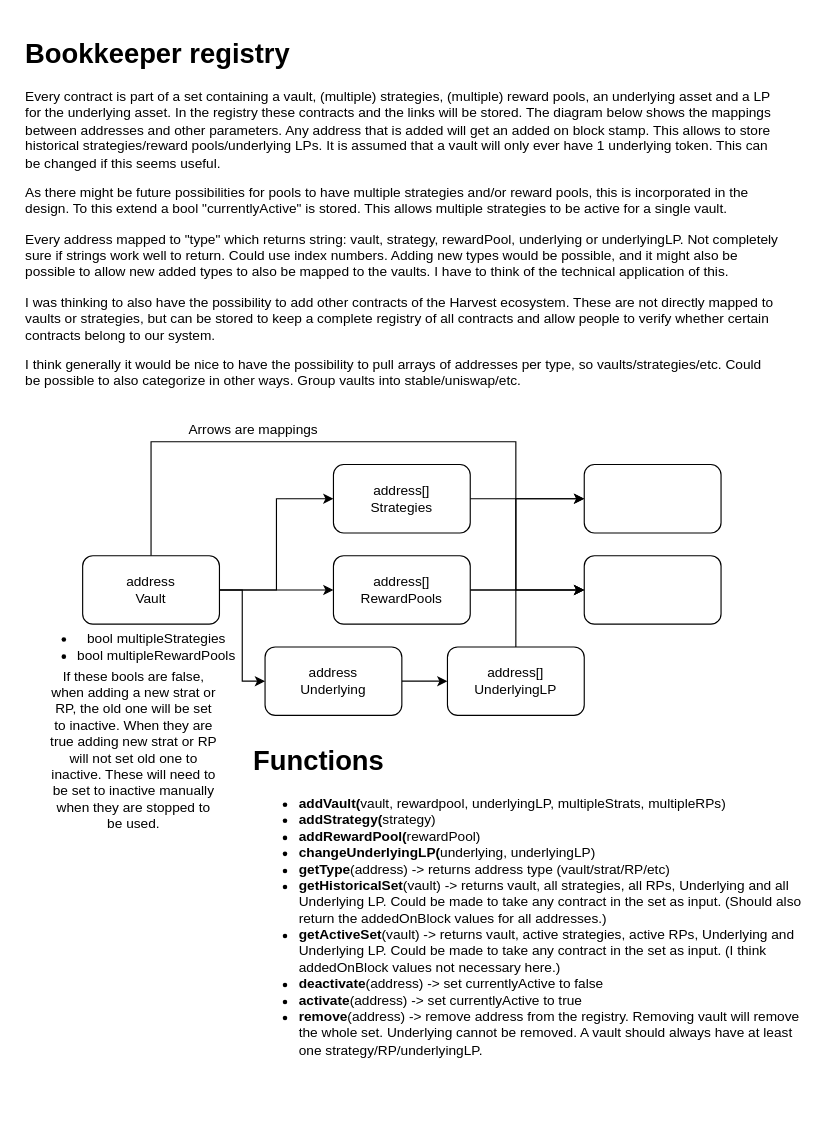
Some shapes in this 825 by 1133 pixel diagram are drawn without their labels. Each missing label, with the centre of its shape:
bool currentlyActive: [652,498]
uint256 addedOnBlock: [652,589]
